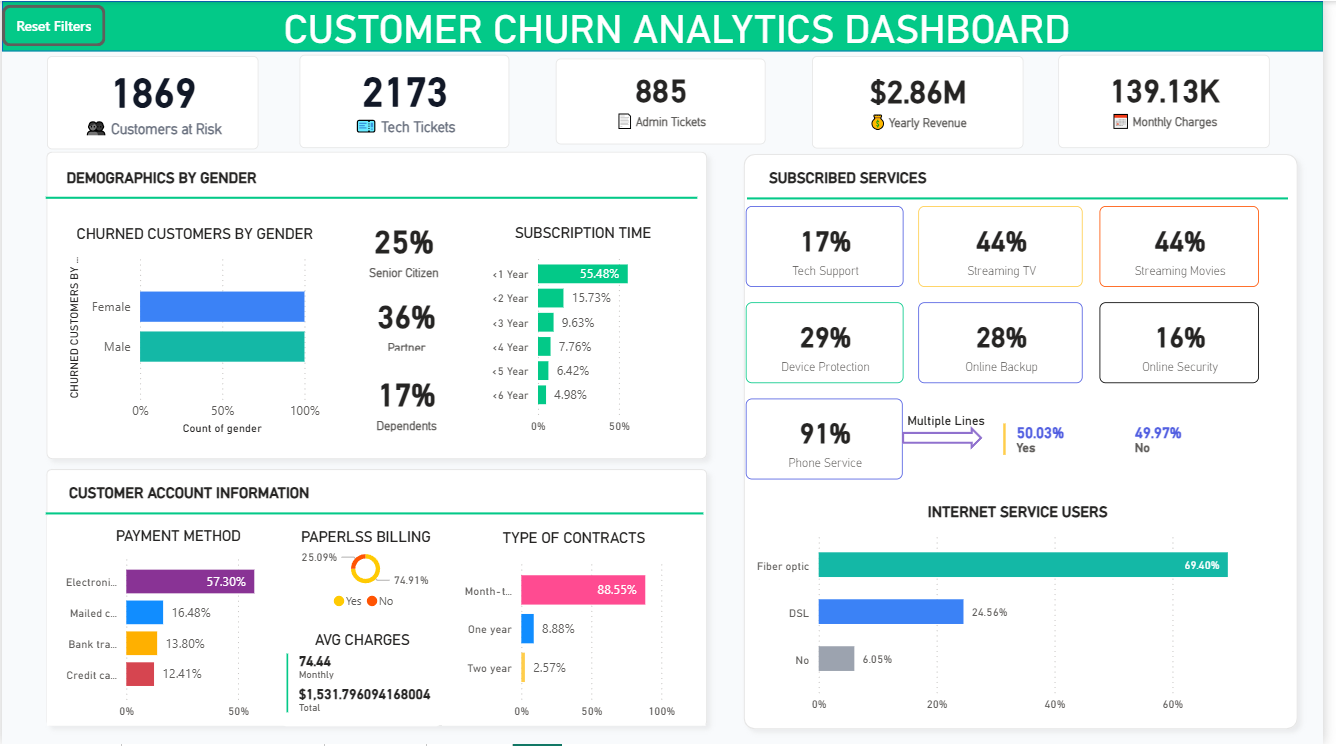

Layout of this report page (visuals, bound fields, positions):
{"tool":"powerbi","page":{"name":"Churn Dashboard","canvas":[1280,720],"ordinal":0},"visuals":[{"type":"shape","box":[0,0,1280,49],"z":0},{"type":"shape","box":[33.9,136.8,658,316],"z":0,"group":"g1"},{"type":"card","fields":{"Values":["Churn.% Tech Support"]},"box":[720,199,152.4,78.4],"z":0,"group":"g4"},{"type":"shape","box":[709.4,139.2,554.4,575],"z":1000},{"type":"card","fields":{"Values":["Churn.% Streaming TV"]},"box":[887.4,199,159.5,78.4],"z":1000,"group":"g4"},{"type":"hundredPercentStackedBarChart","title":"CHURNED CUSTOMERS BY GENDER","fields":{"Category":["01 Churn-Dataset.gender"],"Y":["CountNonNull(Churn.gender)"]},"box":[59.4,206.1,253,222.7],"z":1000,"group":"g1"},{"type":"shape","box":[721.5,124.7,523.9,133],"z":1500,"group":"g3"},{"type":"shape","box":[42,430,636.8,133],"z":1500,"group":"g2"},{"type":"textbox","box":[27.8,0,1251.7,60.5],"z":2000},{"type":"textbox","box":[723.2,146.7,510.8,38],"z":2000,"group":"g3"},{"type":"textbox","box":[42.6,146.9,630.9,47.3],"z":2000,"group":"g1"},{"type":"card","fields":{"Values":["Churn.% Streaming Movies"]},"box":[1062.8,199,154.2,78.4],"z":2000,"group":"g4"},{"type":"textbox","box":[44.2,452,636.8,38],"z":2000,"group":"g2"},{"type":"card","fields":{"Values":["Churn.% of Senior Citizen"]},"box":[330.4,205.2,118,77.5],"z":3000,"group":"g1"},{"type":"card","fields":{"Values":["Churn.% Device Protection"]},"box":[720,291.6,152.4,78.4],"z":3000,"group":"g4"},{"type":"shape","box":[34,444,658,267],"z":3000},{"type":"card","fields":{"Values":["CountNonNull(01 Churn-Dataset.customerID)"]},"box":[43.6,53.3,204.6,90.8],"z":4000},{"type":"card","fields":{"Values":["Churn.% of partner"]},"box":[329.4,279.7,125.5,74.5],"z":4000,"group":"g1"},{"type":"card","fields":{"Values":["Churn.% Online Backup"]},"box":[887.4,291.6,159.5,78.4],"z":4000,"group":"g4"},{"type":"shape","box":[42.6,151.9,630.9,78.5],"z":5000,"group":"g1"},{"type":"card","fields":{"Values":["Churn.% Online Sec"]},"box":[1062.8,291.6,154.2,78.4],"z":5000,"group":"g4"},{"type":"card","fields":{"Values":["Churn.% Phone Service"]},"box":[720,385,152,78],"z":5000},{"type":"card","fields":{"Values":["Sum(01 Churn-Dataset.numTechTickets)"]},"box":[288.1,52.1,203.4,90.8],"z":6000},{"type":"card","fields":{"Values":["Churn.% of Dependents"]},"box":[329.4,352.2,125.5,79.5],"z":6000,"group":"g1"},{"type":"clusteredBarChart","title":"SUBSCRIPTION TIME","fields":{"Y":["CountNonNull(Churn.Churn)"],"Category":["Churn.Tenure(in years)"]},"box":[466.8,205.2,190.5,220.4],"z":7000,"group":"g1"},{"type":"clusteredBarChart","title":"PAYMENT METHOD","fields":{"Y":["CountNonNull(Churn.PaymentMethod)"],"Category":["Churn.PaymentMethod"]},"box":[43.6,498.7,254.2,203.4],"z":7000},{"type":"card","fields":{"Values":["Sum(01 Churn-Dataset.TotalCharges)"]},"box":[784.4,53.3,204.6,89.6],"z":8000},{"type":"card","fields":{"Values":["Sum(01 Churn-Dataset.numAdminTickets)"]},"box":[536.3,55.7,203.4,83.5],"z":9000},{"type":"group","id":"g1","title":"Group 1","box":[33.9,136.8,658,316],"z":10000},{"type":"card","fields":{"Values":["Sum(01 Churn-Dataset.MonthlyCharges)"]},"box":[1022.9,52.1,204.6,90.8],"z":11000},{"type":"donutChart","title":"PAPERLSS BILLING","fields":{"Category":["Churn.PaperlessBilling"],"Y":["CountNonNull(Churn.PaperlessBilling)"]},"box":[278.4,499.9,147.7,104.1],"z":12000},{"type":"multiRowCard","title":"AVG CHARGES","fields":{"Values":["Avg(Churn.MonthlyCharges)","Avg(Churn.TotalCharges)"]},"box":[269.9,599.2,156.2,102.9],"z":13000},{"type":"clusteredBarChart","title":"TYPE OF CONTRACTS","fields":{"Category":["Churn.Contract"],"Y":["CountNonNull(Churn.Contract)"]},"box":[426.1,496.3,255.4,205.8],"z":14000},{"type":"group","id":"g2","title":"Group 2","box":[42,430,639,133],"z":15000},{"type":"group","id":"g3","title":"Group 2","box":[721.5,124.7,524.1,131.9],"z":16000},{"type":"group","id":"g4","title":"Group 3","box":[720,199,497,171],"z":17000},{"type":"shape","box":[871,412,78,23],"z":18000},{"type":"textbox","box":[872,391,300,30],"z":19000},{"type":"multiRowCard","fields":{"Values":["Churn.% Yes-Multiple Lines","Churn.% No-Multiple Lines"]},"box":[965,404,252,53],"z":20000},{"type":"barChart","title":"INTERNET SERVICE USERS","fields":{"Y":["CountNonNull(Churn.InternetService)"],"Category":["Churn.InternetService"]},"box":[725.1,470.9,516.9,230],"z":21000},{"type":"actionButton","title":"Reset Filters","box":[0,4.2,100.2,40.3],"z":22000}]}

Visuals, with their boxes in screenshot pixels (x1, y1, x2, y2), scaled from the page's 1280x720 canvas onto the 1336x746 screenshot:
shape: bbox=(0, 0, 1335, 51)
shape: bbox=(35, 142, 722, 469)
card - Churn.% Tech Support: bbox=(752, 206, 911, 287)
shape: bbox=(740, 144, 1319, 740)
card - Churn.% Streaming TV: bbox=(926, 206, 1093, 287)
"CHURNED CUSTOMERS BY GENDER" hundredPercentStackedBarChart: bbox=(62, 214, 326, 444)
shape: bbox=(753, 129, 1300, 267)
shape: bbox=(44, 446, 708, 583)
textbox: bbox=(29, 0, 1335, 63)
textbox: bbox=(755, 152, 1288, 191)
textbox: bbox=(44, 152, 703, 201)
card - Churn.% Streaming Movies: bbox=(1109, 206, 1270, 287)
textbox: bbox=(46, 468, 711, 508)
card - Churn.% of Senior Citizen: bbox=(345, 213, 468, 293)
card - Churn.% Device Protection: bbox=(752, 302, 911, 383)
shape: bbox=(35, 460, 722, 737)
card - CountNonNull(01 Churn-Dataset.customerID): bbox=(46, 55, 259, 149)
card - Churn.% of partner: bbox=(344, 290, 475, 367)
card - Churn.% Online Backup: bbox=(926, 302, 1093, 383)
shape: bbox=(44, 157, 703, 239)
card - Churn.% Online Sec: bbox=(1109, 302, 1270, 383)
card - Churn.% Phone Service: bbox=(752, 399, 910, 480)
card - Sum(01 Churn-Dataset.numTechTickets): bbox=(301, 54, 513, 148)
card - Churn.% of Dependents: bbox=(344, 365, 475, 447)
"SUBSCRIPTION TIME" clusteredBarChart: bbox=(487, 213, 686, 441)
"PAYMENT METHOD" clusteredBarChart: bbox=(46, 517, 311, 727)
card - Sum(01 Churn-Dataset.TotalCharges): bbox=(819, 55, 1032, 148)
card - Sum(01 Churn-Dataset.numAdminTickets): bbox=(560, 58, 772, 144)
"Group 1" group: bbox=(35, 142, 722, 469)
card - Sum(01 Churn-Dataset.MonthlyCharges): bbox=(1068, 54, 1281, 148)
"PAPERLSS BILLING" donutChart: bbox=(291, 518, 445, 626)
"AVG CHARGES" multiRowCard: bbox=(282, 621, 445, 727)
"TYPE OF CONTRACTS" clusteredBarChart: bbox=(445, 514, 711, 727)
"Group 2" group: bbox=(44, 446, 711, 583)
"Group 2" group: bbox=(753, 129, 1300, 266)
"Group 3" group: bbox=(752, 206, 1270, 383)
shape: bbox=(909, 427, 991, 451)
textbox: bbox=(910, 405, 1223, 436)
multiRowCard - Churn.% Yes-Multiple Lines x Churn.% No-Multiple Lines: bbox=(1007, 419, 1270, 474)
"INTERNET SERVICE USERS" barChart: bbox=(757, 488, 1296, 726)
"Reset Filters" actionButton: bbox=(0, 4, 105, 46)
